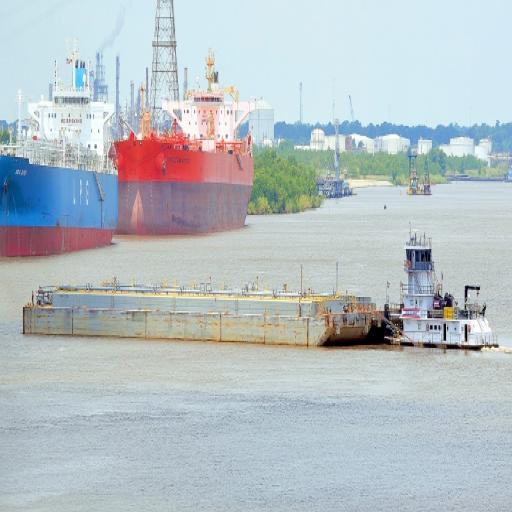tugboat: (380, 225, 502, 363)
